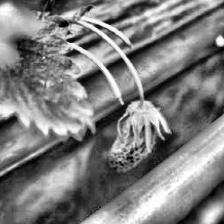Gray Mold: (109, 98, 173, 172)
